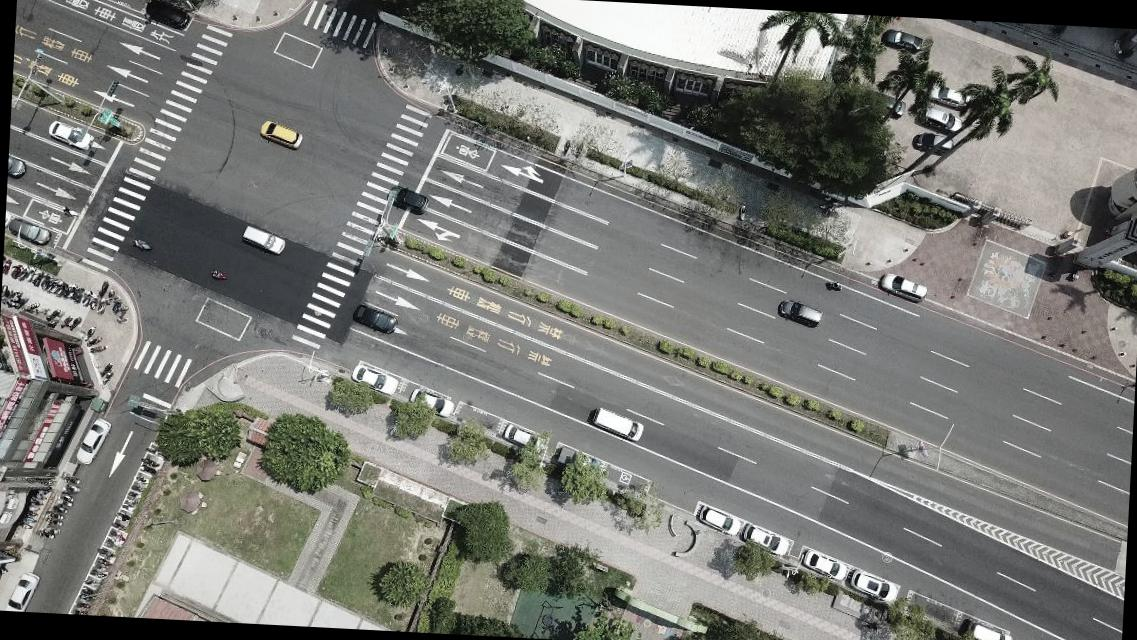vehicle: (588, 408, 646, 445), (74, 416, 112, 466), (846, 572, 897, 606), (1, 570, 41, 612), (800, 550, 849, 582), (349, 367, 399, 398), (142, 0, 190, 32), (351, 303, 398, 335), (47, 120, 93, 152), (878, 274, 926, 304), (742, 526, 789, 556), (552, 444, 596, 476), (408, 389, 454, 418), (258, 120, 302, 150), (240, 227, 284, 257), (924, 82, 970, 110), (501, 422, 542, 452), (7, 218, 50, 246), (916, 107, 962, 133), (695, 509, 740, 535), (777, 301, 822, 327), (911, 132, 954, 157), (871, 92, 905, 120), (882, 28, 923, 51), (964, 623, 1014, 639), (8, 157, 28, 180)
